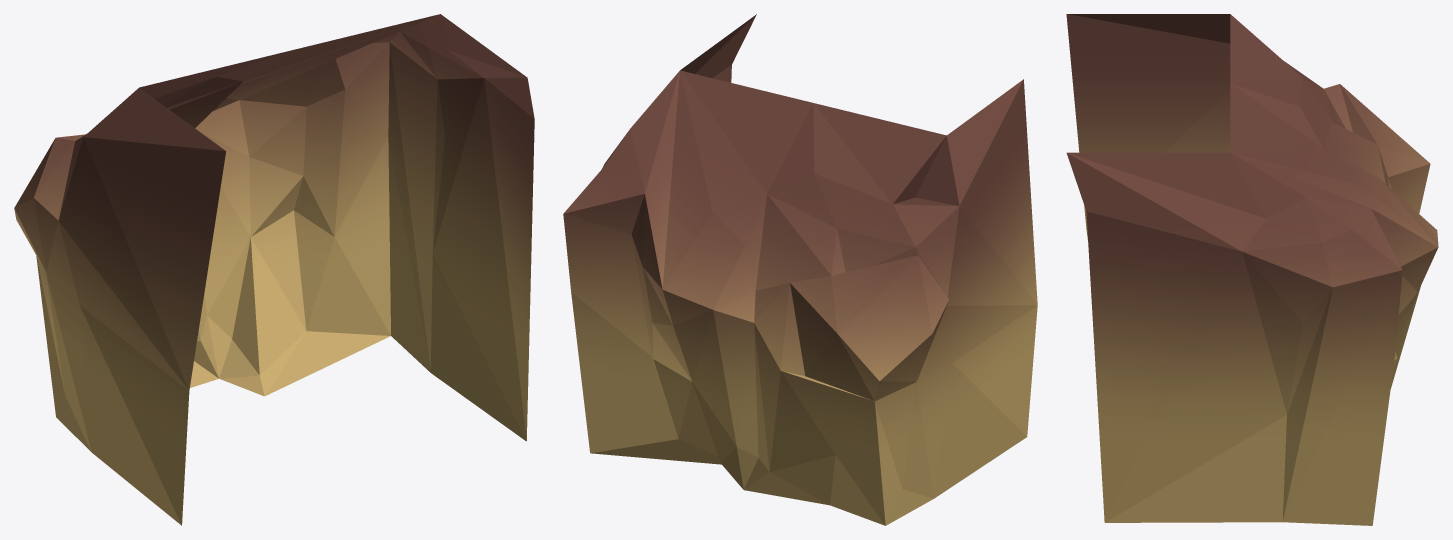
File: Cliff3.fbx
3 renders of one model, left to right at view 1: azimuth 30°, elevation 25°; view 2: azimuth 150°, elevation 25°; view 3: azimuth 270°, elevation 25°, orthographic. The views are drawn at different scales.
Parts seen in each view (by area): view 1: Cliff3; view 2: Cliff3; view 3: Cliff3.
Part boxes in pixels (x1,y1,x2,y2): Cliff3: (14, 14, 534, 525); Cliff3: (563, 14, 1037, 525); Cliff3: (1066, 14, 1438, 525).
Size of the model in its own units: 135 by 122 by 113.
